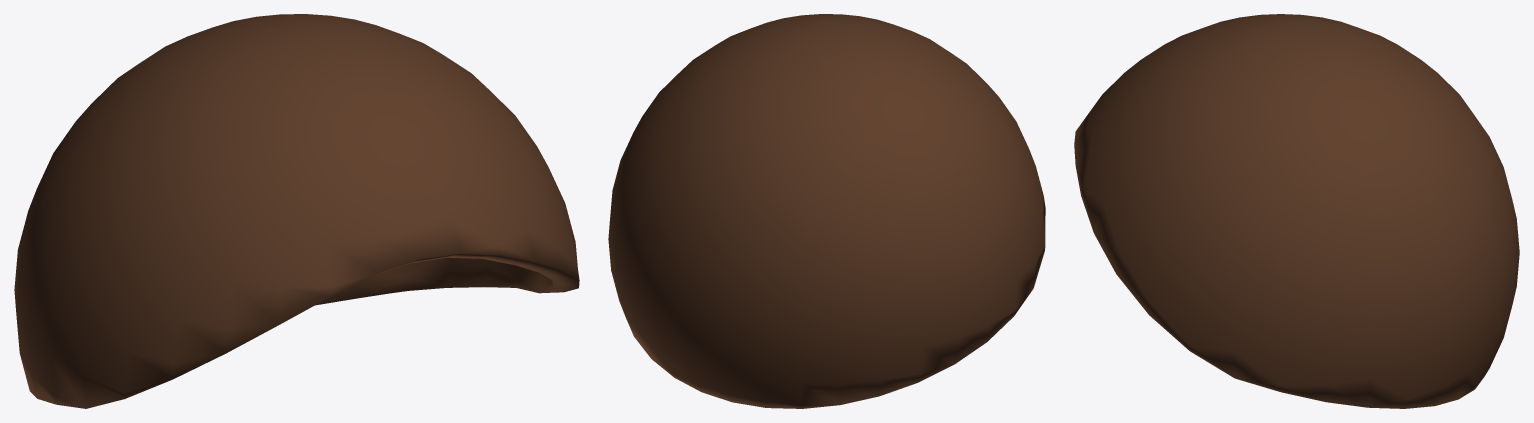
File: hair_bowl.glb
3 renders of one model, left to right at view 1: azimuth 30°, elevation 25°; view 2: azimuth 150°, elevation 25°; view 3: azimuth 270°, elevation 25°, orthographic. The views are drawn at different scales.
Parts seen in each view (by area): view 1: hair_bowl; view 2: hair_bowl; view 3: hair_bowl.
Part boxes in pixels (bbox=[...]): hair_bowl: bbox=[14, 14, 579, 408]; hair_bowl: bbox=[608, 14, 1045, 408]; hair_bowl: bbox=[1074, 14, 1519, 408].
Size of the model in its own units: 0.64 by 0.48 by 0.5971.
